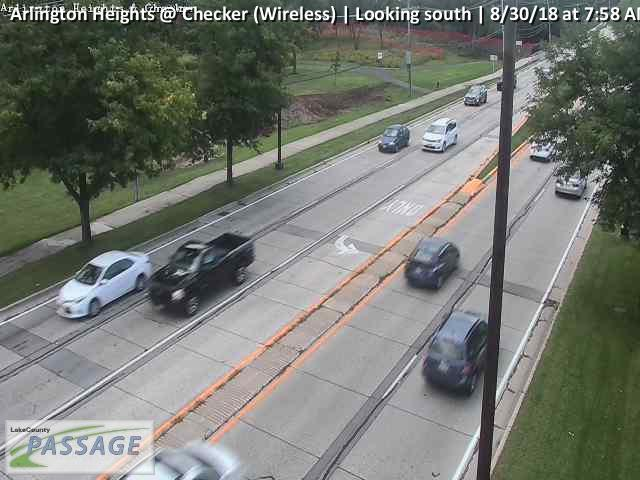SUV: (422, 117, 459, 153)
Sedan: (422, 311, 496, 395), (93, 249, 152, 317), (401, 235, 459, 289), (377, 122, 410, 154), (464, 85, 487, 107)
Truck: (145, 232, 256, 315)
